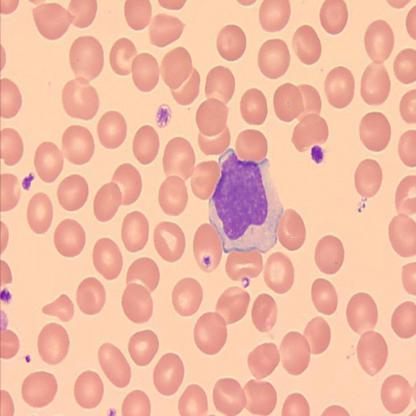Atypical lymphocyte: (207, 145, 287, 255)
